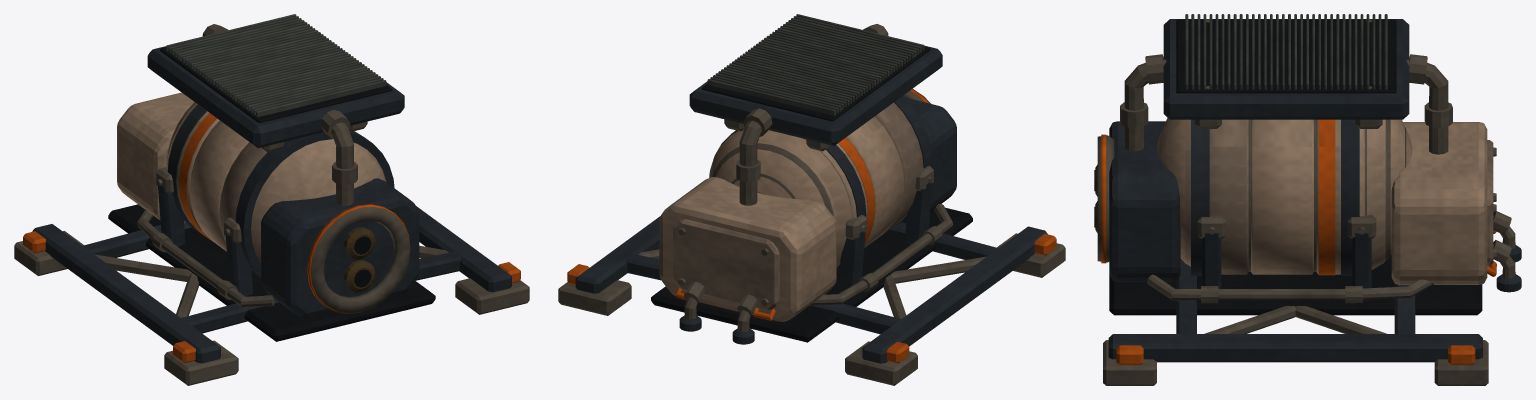
File: depot-refinery.glb
3 renders of one model, left to right at view 1: azimuth 30°, elevation 25°; view 2: azimuth 150°, elevation 25°; view 3: azimuth 270°, elevation 25°, orthographic. The views are drawn at different scales.
Visible parts, largest first — view 1: Refinery ceramic and hardware trim 0; view 2: Refinery ceramic and hardware trim 0; view 3: Refinery ceramic and hardware trim 0.
Part boxes in pixels (x1,y1,x2,y2): Refinery ceramic and hardware trim 0: [14, 14, 529, 385]; Refinery ceramic and hardware trim 0: [558, 14, 1065, 385]; Refinery ceramic and hardware trim 0: [1094, 14, 1521, 385].
Bounding box in the file's own units: 6.12 × 3.78 × 5.95.
1 material, 1 textured.
